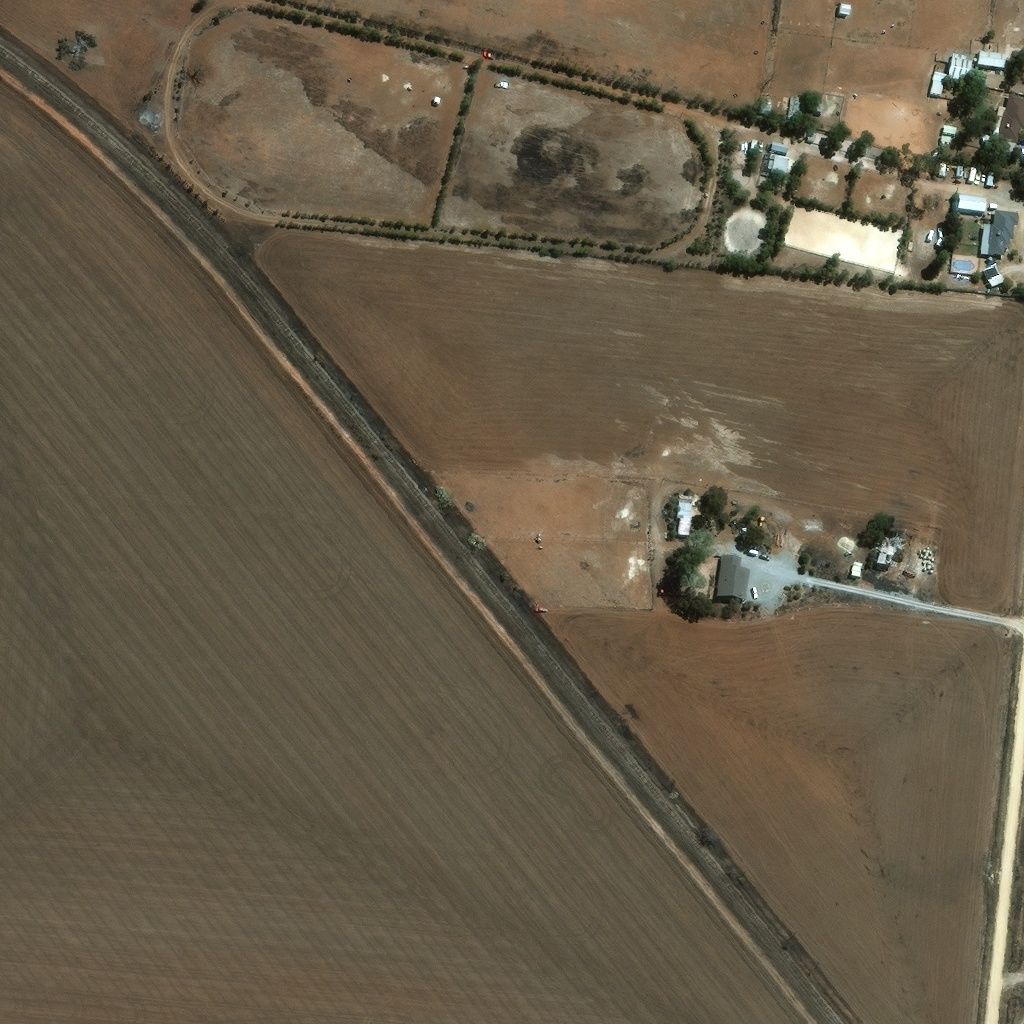0 no-damage: (979, 209, 1020, 256), (716, 554, 750, 599), (998, 92, 1023, 141), (788, 92, 822, 118), (949, 52, 975, 82), (677, 493, 694, 534), (769, 152, 792, 178), (978, 49, 1009, 67), (958, 193, 985, 212), (983, 264, 1004, 286), (931, 69, 948, 94), (772, 139, 790, 151), (851, 561, 864, 577), (943, 122, 958, 134), (762, 95, 772, 112), (807, 126, 817, 139), (988, 170, 996, 184), (969, 166, 977, 180), (940, 160, 948, 174), (942, 133, 952, 143), (981, 169, 987, 184), (742, 138, 750, 147), (752, 136, 758, 146), (434, 95, 442, 102), (958, 164, 963, 175), (965, 164, 969, 170)
2 major-damage: (876, 530, 899, 569)
4 un-classified: (840, 2, 852, 13), (834, 135, 843, 147)
